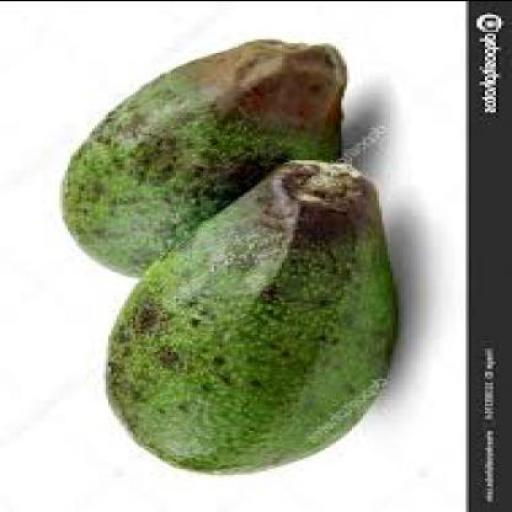biodegradable: (102, 157, 396, 472), (59, 36, 347, 273)
